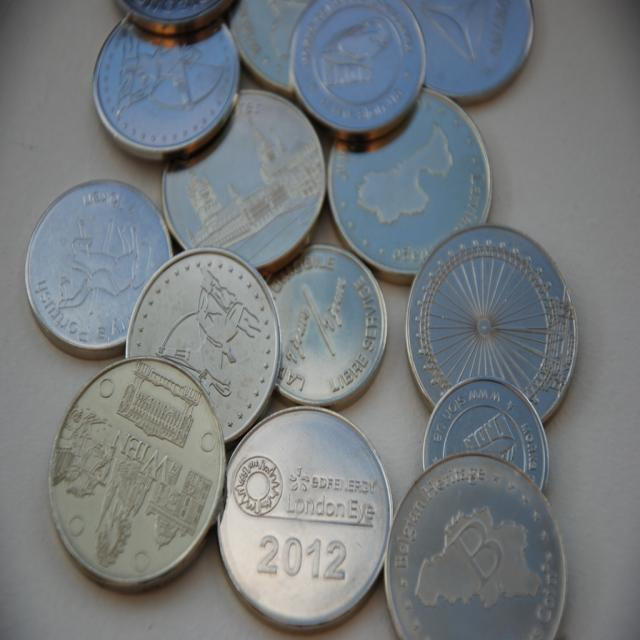Coin: (46, 351, 224, 593), (216, 405, 391, 632), (380, 447, 570, 639), (403, 221, 580, 425), (322, 91, 492, 281), (159, 88, 326, 279), (124, 249, 283, 449), (24, 176, 174, 362), (89, 19, 241, 163), (261, 241, 390, 408), (288, 0, 426, 142), (420, 373, 550, 496), (409, 0, 534, 102), (220, 0, 311, 98), (115, 0, 236, 44)
